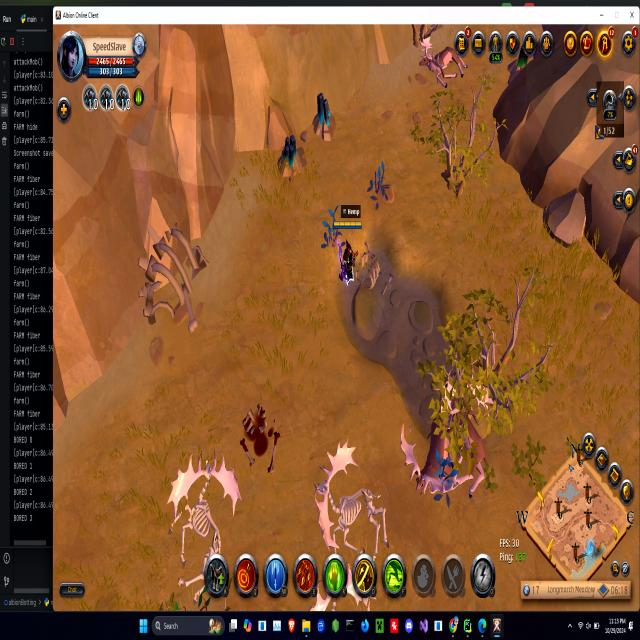mob: (408, 388, 496, 504), (417, 43, 473, 84)
player: (312, 92, 334, 142), (276, 134, 299, 181)
red: (334, 217, 360, 286)
